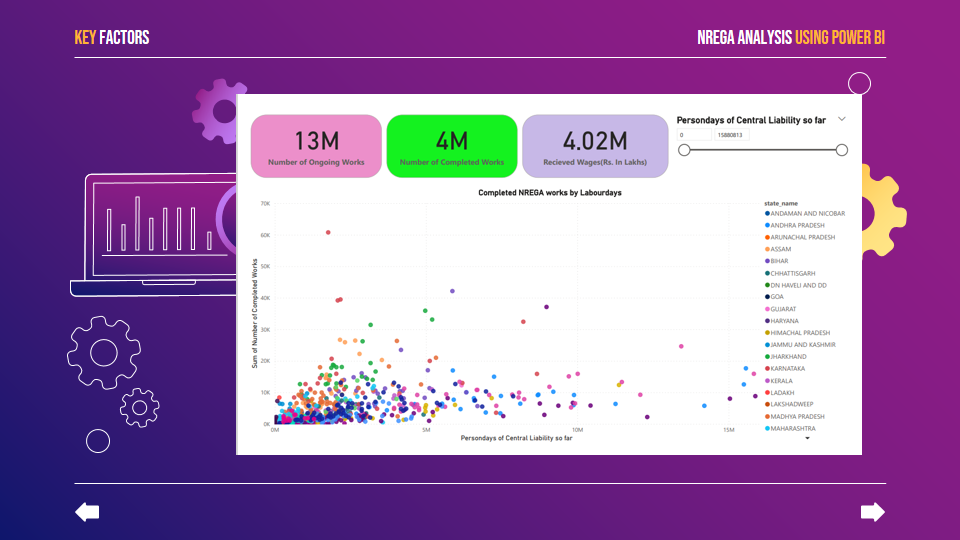

This screenshot's page, from the dashboard's own definition file:
{"tool":"powerbi","page":{"name":"Key factors","canvas":[1280,720],"ordinal":3},"visuals":[{"type":"cardVisual","fields":{"Data":["Sum(NREGA.Number of Ongoing Works)"]},"box":[0,16,288,144],"z":0},{"type":"cardVisual","fields":{"Data":["Sum(NREGA.Number of Completed Works)"]},"box":[288,16,288,144],"z":1000},{"type":"cardVisual","fields":{"Data":["Sum(NREGA.Wages(Rs. In Lakhs))"]},"box":[576,16,320,144],"z":2000},{"type":"scatterChart","title":"Completed NREGA works by Labourdays","fields":{"Y":["Sum(NREGA.Number of Completed Works)"],"X":["NREGA.Persondays of Central Liability so far"],"Series":["NREGA.state_name"]},"box":[0,176,1280,544],"z":3000},{"type":"slicer","fields":{"Values":["NREGA.Persondays of Central Liability so far"]},"box":[896,16,384,160],"z":4000}]}

Visuals, with their boxes in screenshot pixels (x1, y1, x2, y2), scaled from the page's 1280x720 canvas onto the 960x540 screenshot:
cardVisual - Sum(NREGA.Number of Ongoing Works): crop(0, 12, 216, 120)
cardVisual - Sum(NREGA.Number of Completed Works): crop(216, 12, 432, 120)
cardVisual - Sum(NREGA.Wages(Rs. In Lakhs)): crop(432, 12, 672, 120)
"Completed NREGA works by Labourdays" scatterChart: crop(0, 132, 959, 539)
slicer - NREGA.Persondays of Central Liability so far: crop(672, 12, 959, 132)
